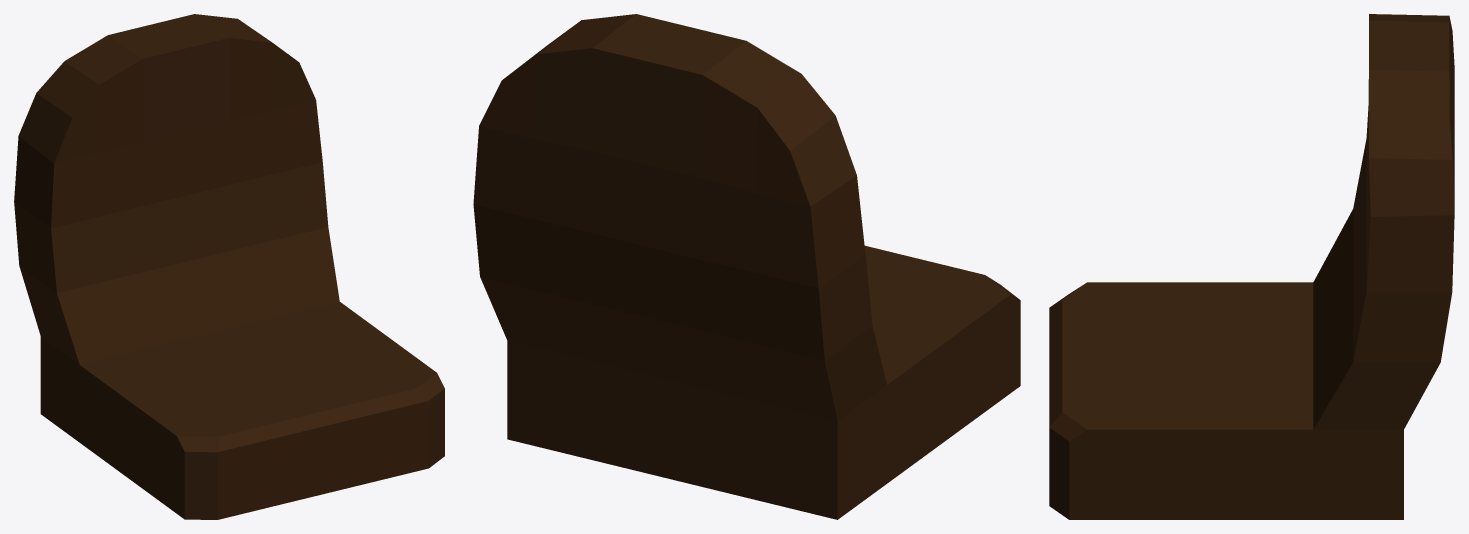
Rendered from Chair3.fbx.
3 views of the same model, side by side, from view 1: azimuth 30°, elevation 25°; view 2: azimuth 150°, elevation 25°; view 3: azimuth 270°, elevation 25° (orthographic). The views are drawn at different scales.
Parts seen in each view (by area): view 1: Chair3; view 2: Chair3; view 3: Chair3.
Part boxes in pixels (left/top/right/bottom): Chair3: left=14, top=14, right=444, bottom=519; Chair3: left=473, top=14, right=1020, bottom=519; Chair3: left=1049, top=14, right=1454, bottom=519.
Size of the model in its own units: 344 by 417 by 382.
